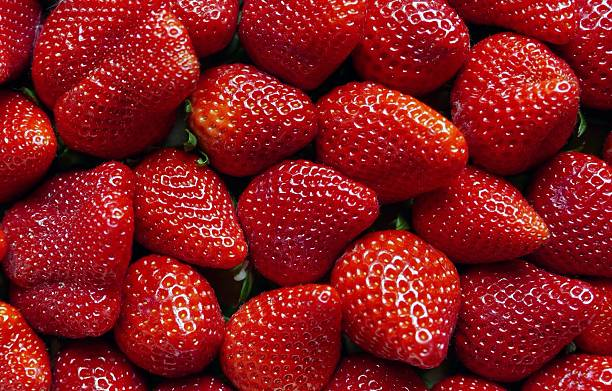Fresa: (32, 1, 206, 160), (5, 161, 143, 339), (308, 74, 473, 207), (447, 29, 585, 182), (454, 250, 607, 385), (328, 224, 464, 372), (233, 158, 382, 286), (407, 160, 554, 285), (185, 57, 322, 178), (134, 143, 249, 276), (219, 279, 349, 391), (114, 250, 227, 378), (236, 1, 373, 93)
